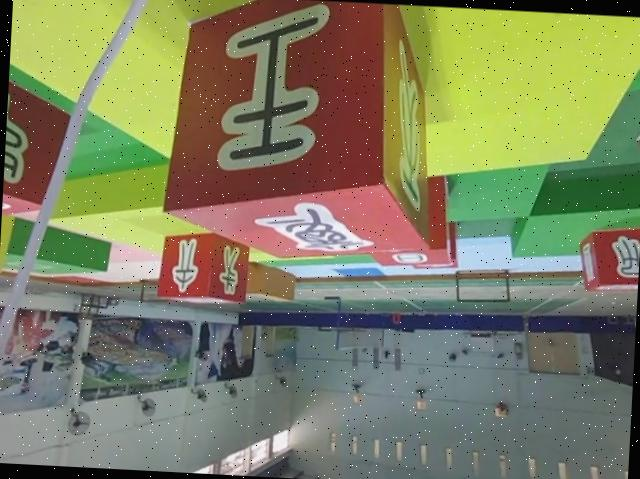R2 Fake: (157, 0, 439, 267), (1, 78, 72, 218), (157, 230, 250, 306), (575, 221, 640, 293)
